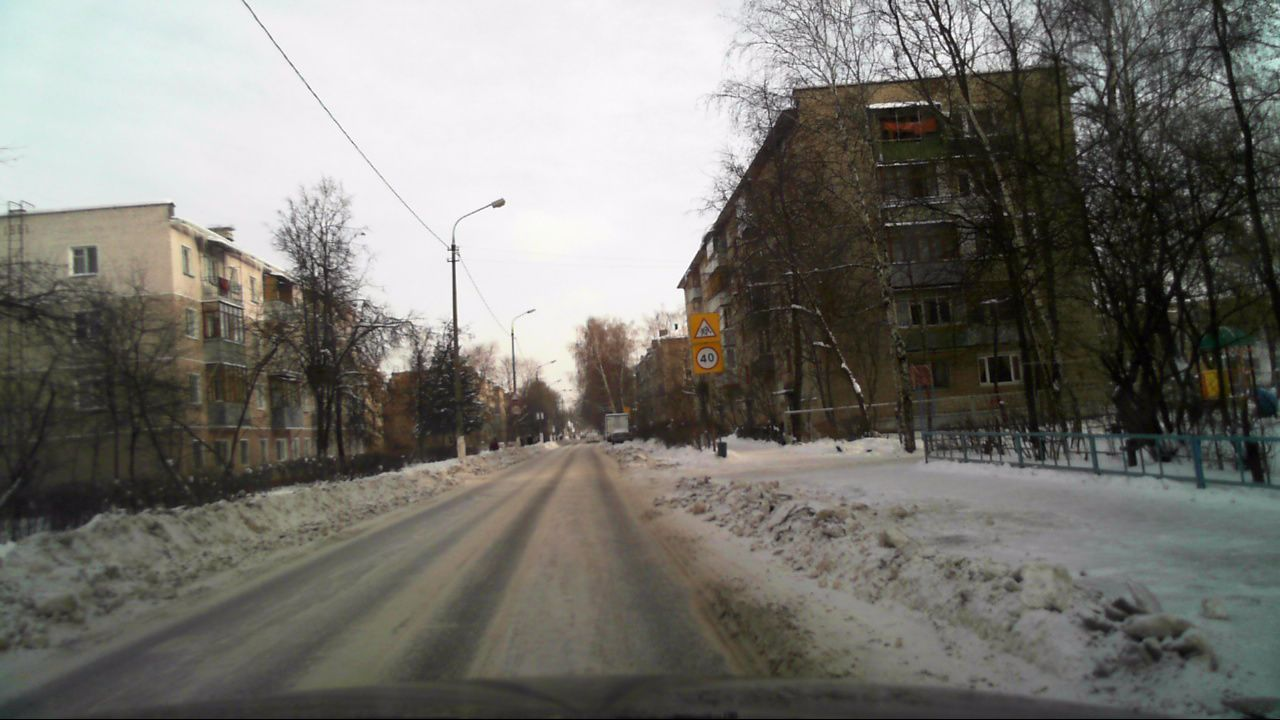speed_warning_40: (690, 342, 722, 374)
